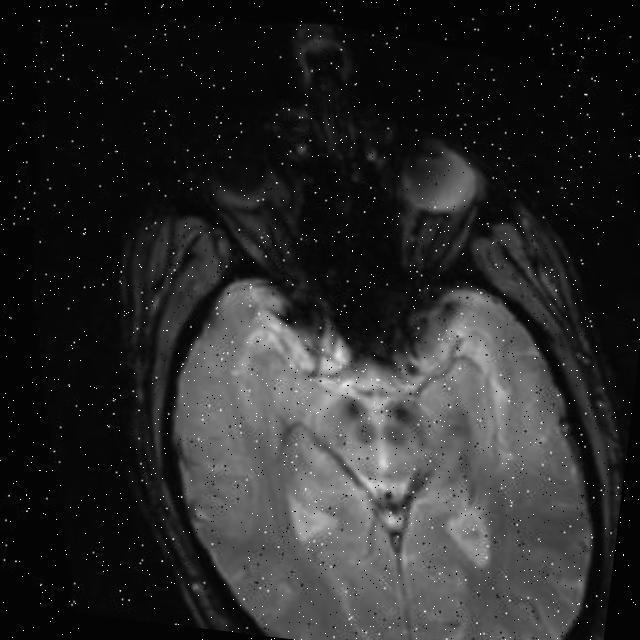EMCI: (236, 238, 464, 432)
